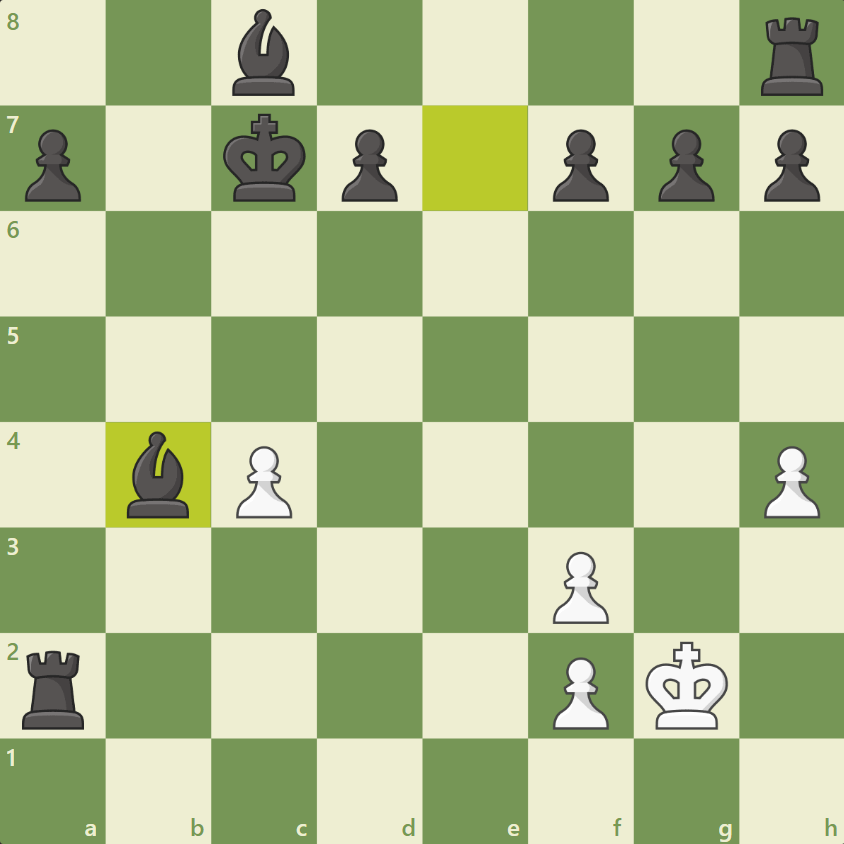K: (642, 638, 730, 733)
P: (233, 441, 294, 522), (551, 654, 611, 734), (550, 548, 610, 627), (762, 443, 822, 521)
b: (227, 5, 297, 100), (123, 428, 191, 523)
k: (219, 109, 308, 205)
p: (20, 125, 84, 205), (337, 126, 401, 206), (549, 126, 613, 206), (655, 126, 719, 206), (760, 126, 824, 206)
r: (16, 648, 87, 734), (758, 14, 825, 100)
